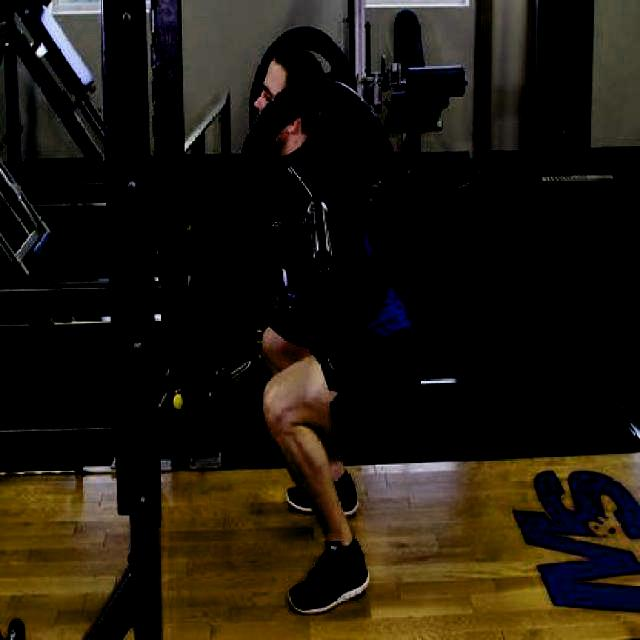barbell: (228, 73, 410, 357)
